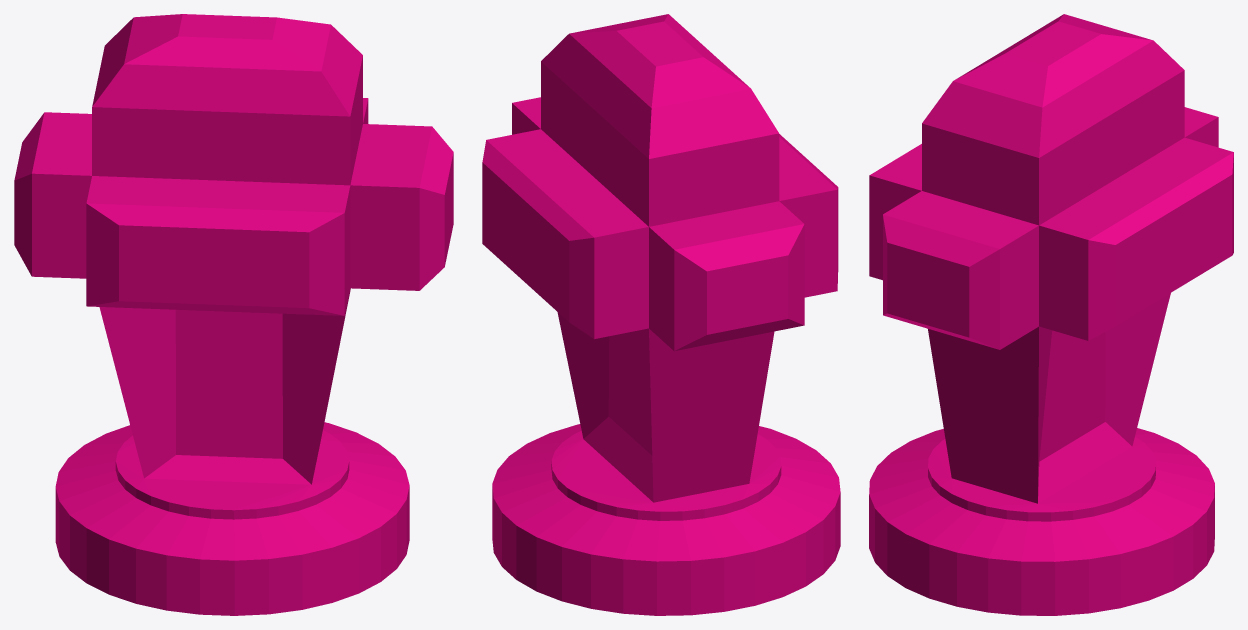
Rendered from stronghold.glb.
The picture shows the model from 3 angles, left to right: view 1: azimuth 30°, elevation 25°; view 2: azimuth 150°, elevation 25°; view 3: azimuth 270°, elevation 25°; orthographic projection. The views are drawn at different scales.
Visible parts, largest first — view 1: Stronghold; view 2: Stronghold; view 3: Stronghold.
Part boxes in pixels (bbox=[...]): Stronghold: bbox=[14, 14, 453, 615]; Stronghold: bbox=[482, 14, 840, 615]; Stronghold: bbox=[869, 14, 1233, 615].
Size of the model in its own units: 1.62 by 2.22 by 1.47.
